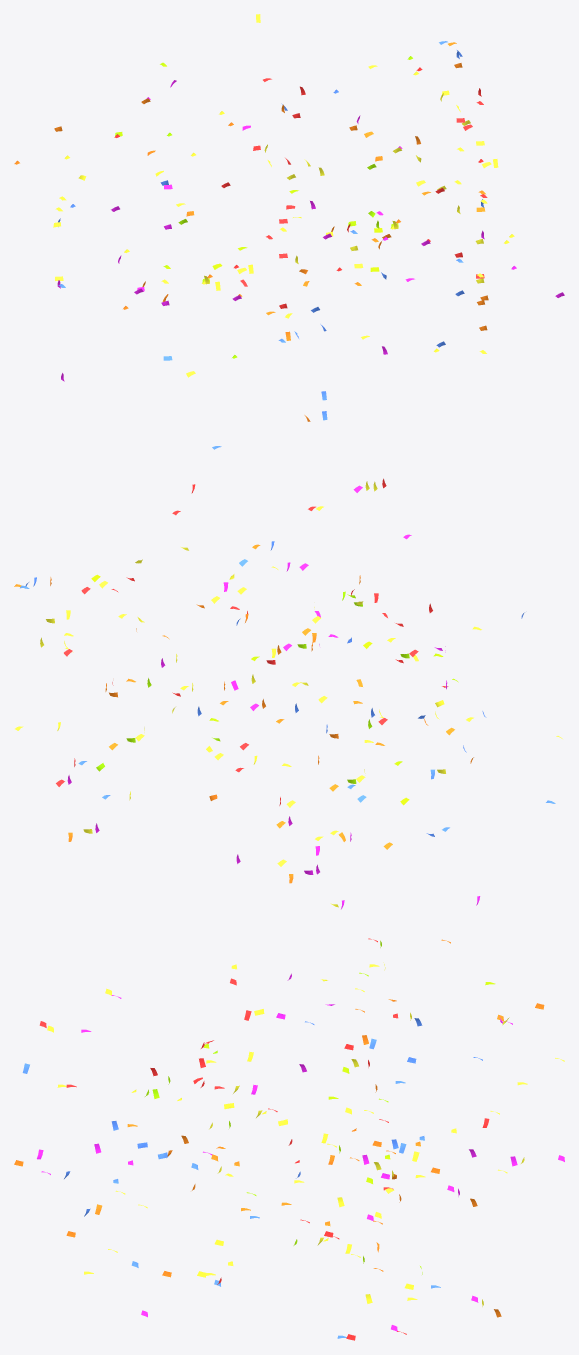
Rendered from confetti.glb.
3 views of the same model, one above another, from view 1: azimuth 30°, elevation 25°; view 2: azimuth 150°, elevation 25°; view 3: azimuth 270°, elevation 25° (orthographic). The views are drawn at different scales.
Visible parts, largest first — view 1: confetti_group.001; view 2: confetti_group.001; view 3: confetti_group.001.
Part boxes in pixels (left/top/right/bottom): confetti_group.001: left=14, top=14, right=564, bottom=449; confetti_group.001: left=14, top=478, right=562, bottom=909; confetti_group.001: left=14, top=938, right=564, bottom=1340.
Size of the model in its own units: 11.4 by 6.71 by 11.3.
1 material, 1 textured.
